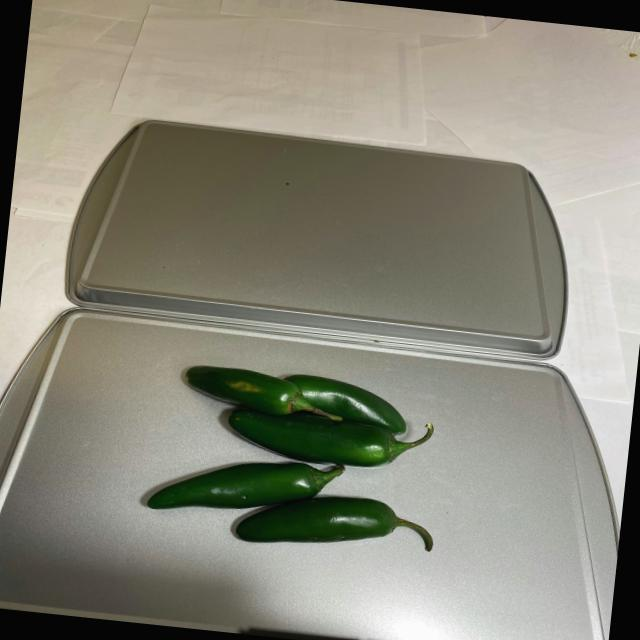chilli: (128, 350, 457, 580)
